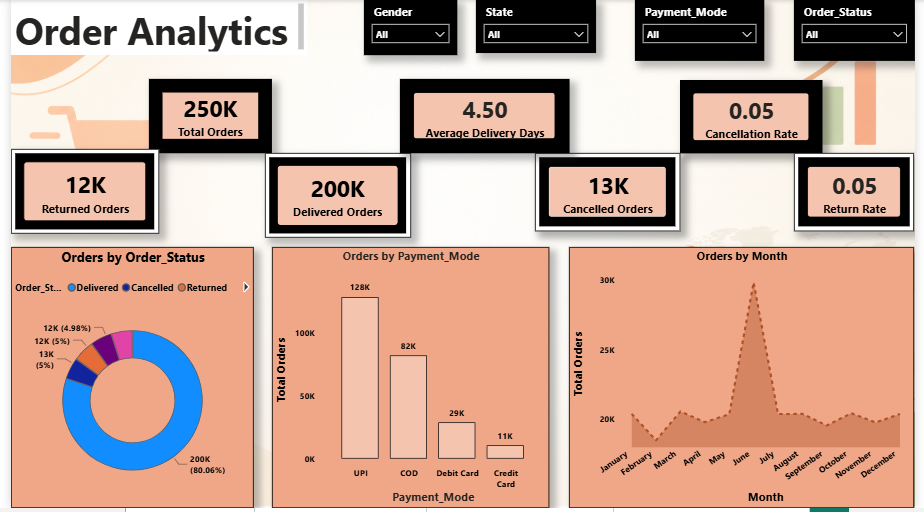

What the dashboard file says about the page in this screenshot:
{"tool":"powerbi","page":{"name":"Order Analytics Dashboard","canvas":[1280,720],"ordinal":2},"visuals":[{"type":"cardVisual","fields":{"Data":["FactSales.Total Orders"]},"box":[195.6,112,174.3,104.9],"z":0},{"type":"textbox","box":[0,0,419.5,78],"z":1000},{"type":"cardVisual","fields":{"Data":["FactSales.Delivered Orders"]},"box":[360,216.9,206.9,120.5],"z":2000},{"type":"cardVisual","fields":{"Data":["FactSales.Cancelled Orders"]},"box":[742.7,216.9,205.5,110.6],"z":3000},{"type":"cardVisual","fields":{"Data":["FactSales.Returned Orders"]},"box":[0,211.2,209.8,120.5],"z":4000},{"type":"cardVisual","fields":{"Data":["FactSales.Average Delivery Days"]},"box":[551.3,112,239.5,104.9],"z":5000},{"type":"cardVisual","fields":{"Data":["FactSales.Cancellation Rate"]},"box":[948.2,113.4,201.6,104.1],"z":6000},{"type":"cardVisual","fields":{"Data":["FactSales.Return Rate"]},"box":[1109.8,216.9,170.1,110.6],"z":7000},{"type":"donutChart","title":"Orders by Order_Status","fields":{"Category":["FactSales.Order_Status"],"Y":["FactSales.Total Orders"]},"box":[0,350.1,344.4,369.9],"z":8000},{"type":"columnChart","title":"Orders by Payment_Mode","fields":{"Category":["FactSales.Payment_Mode"],"Y":["FactSales.Total Orders"]},"box":[369.9,350.1,392.6,369.9],"z":9000},{"type":"lineChart","title":"Orders by Month","fields":{"Category":["FactSales.Order_Date.Variation.Date Hierarchy.Month"],"Y":["FactSales.Total Orders"]},"box":[790.9,350.1,489,369.9],"z":10000},{"type":"slicer","fields":{"Values":["DimCustomers.Gender"]},"box":[500.3,0,131.8,78],"z":11000},{"type":"slicer","fields":{"Values":["DimCustomers.State"]},"box":[659.1,0,170.1,75.1],"z":12000},{"type":"slicer","fields":{"Values":["FactSales.Payment_Mode"]},"box":[884.4,0,182.8,86.5],"z":13000},{"type":"slicer","fields":{"Values":["FactSales.Order_Status"]},"box":[1109.8,0,171.5,86.5],"z":14000}]}

Visuals, with their boxes in screenshot pixels (x1, y1, x2, y2), scaled from the page's 1280x720 canvas onto the 924x512 screenshot:
cardVisual - FactSales.Total Orders: Rect(141, 80, 267, 154)
textbox: Rect(0, 0, 303, 55)
cardVisual - FactSales.Delivered Orders: Rect(260, 154, 409, 240)
cardVisual - FactSales.Cancelled Orders: Rect(536, 154, 684, 233)
cardVisual - FactSales.Returned Orders: Rect(0, 150, 151, 236)
cardVisual - FactSales.Average Delivery Days: Rect(398, 80, 571, 154)
cardVisual - FactSales.Cancellation Rate: Rect(684, 81, 830, 155)
cardVisual - FactSales.Return Rate: Rect(801, 154, 923, 233)
"Orders by Order_Status" donutChart: Rect(0, 249, 249, 511)
"Orders by Payment_Mode" columnChart: Rect(267, 249, 550, 511)
"Orders by Month" lineChart: Rect(571, 249, 923, 511)
slicer - DimCustomers.Gender: Rect(361, 0, 456, 55)
slicer - DimCustomers.State: Rect(476, 0, 599, 53)
slicer - FactSales.Payment_Mode: Rect(638, 0, 770, 62)
slicer - FactSales.Order_Status: Rect(801, 0, 923, 62)
